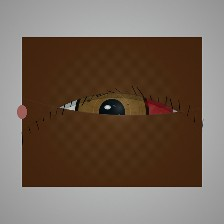hemorrhage_spot: (121, 84, 182, 133)
